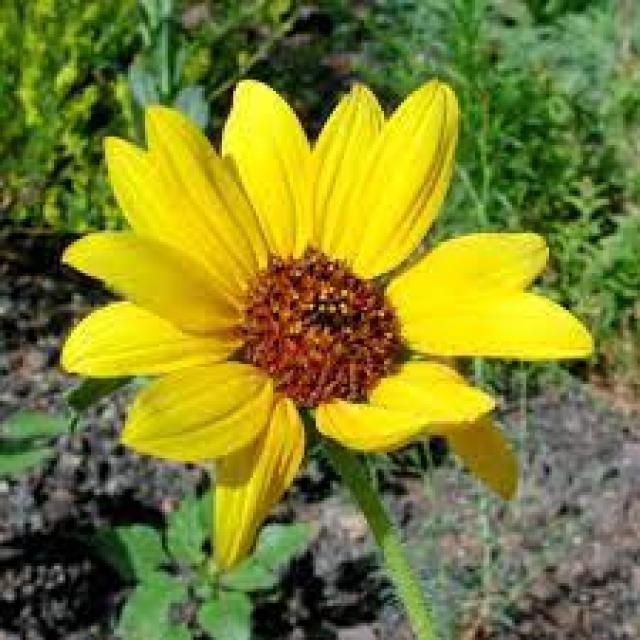sunflower: (58, 69, 607, 583)
